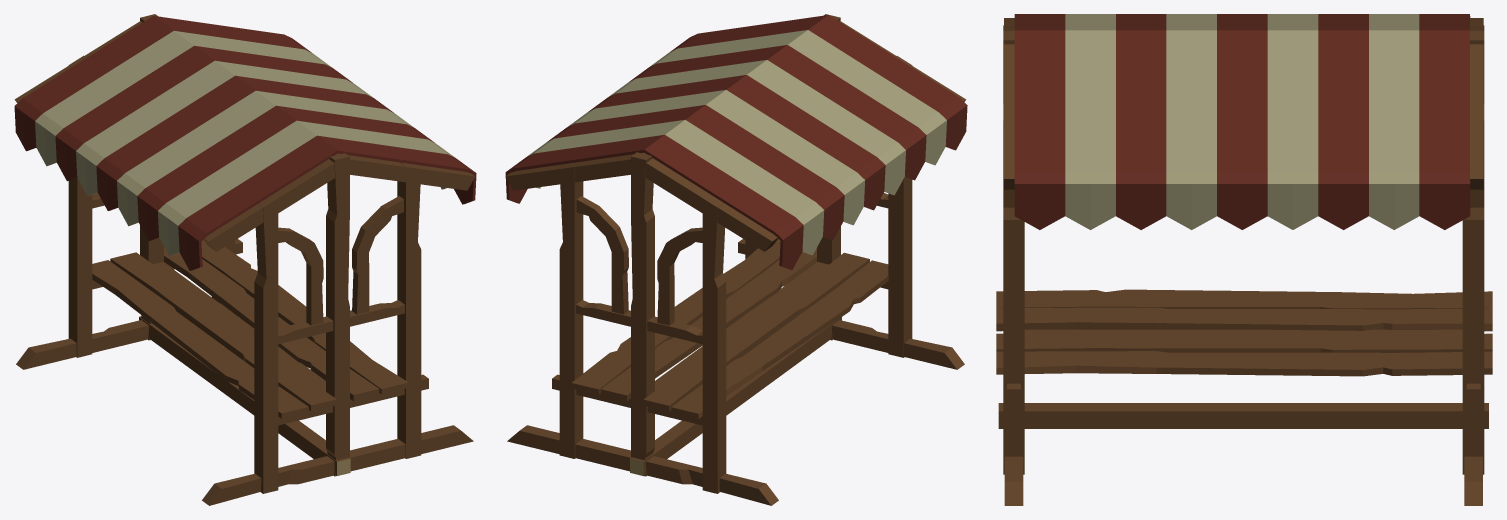
The model's file is quaternius-medieval-village-market-stand-1.glb.
3 views of the same model, side by side, from view 1: azimuth 30°, elevation 25°; view 2: azimuth 150°, elevation 25°; view 3: azimuth 270°, elevation 25° (orthographic). The views are drawn at different scales.
Parts seen in each view (by area): view 1: MarketStand_1; view 2: MarketStand_1; view 3: MarketStand_1.
Part boxes in pixels (left/top/right/bottom): MarketStand_1: left=14, top=14, right=476, bottom=505; MarketStand_1: left=505, top=14, right=967, bottom=505; MarketStand_1: left=996, top=14, right=1492, bottom=505.
Bounding box in the file's own units: 0.9509 × 1.05 × 1.19.
